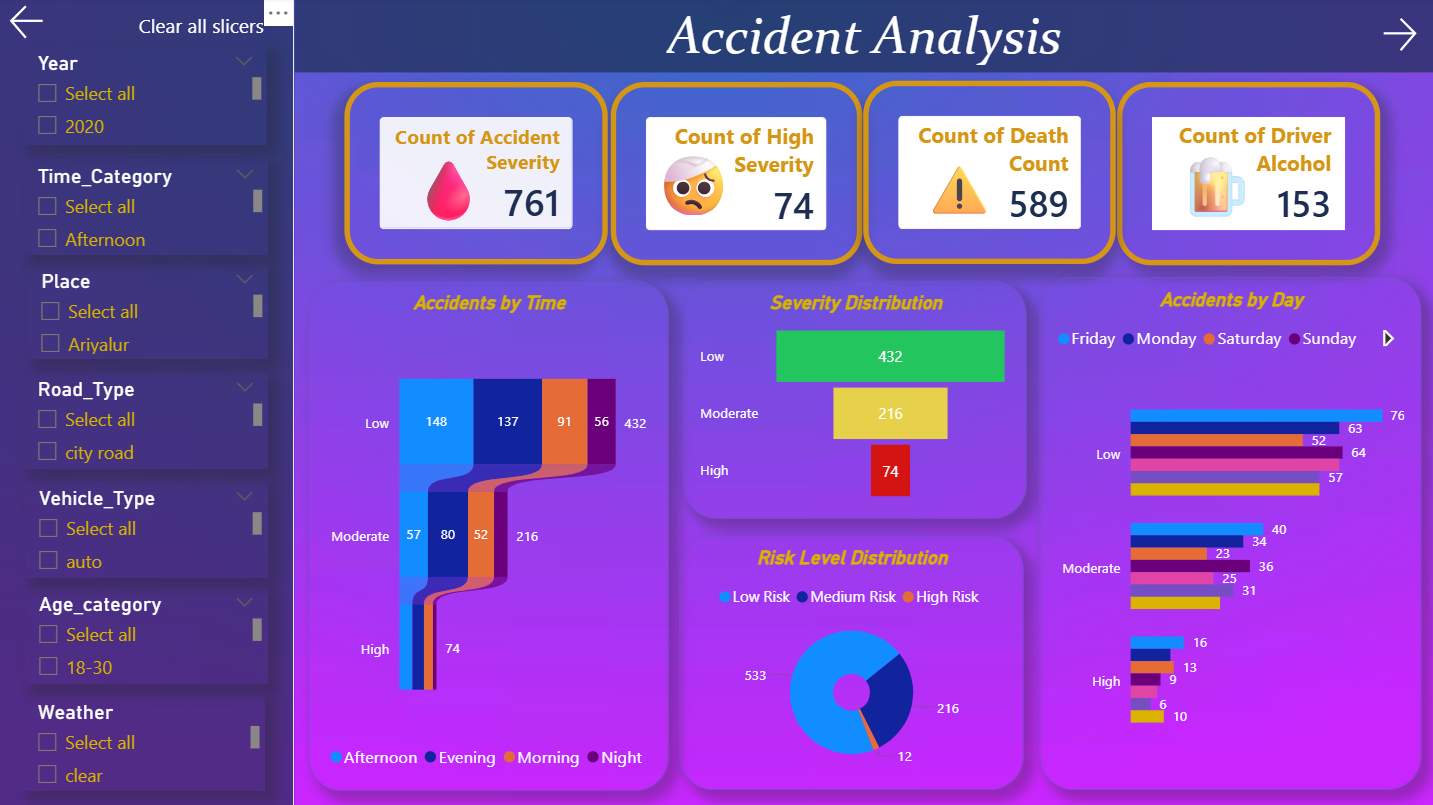

The dashboard page shown, as its layout file describes it:
{"tool":"powerbi","page":{"name":"Page 2","canvas":[1280,720],"ordinal":1},"visuals":[{"type":"cardVisual","fields":{"Data":["CountNonNull(accidents_clean_202606011820.Driver_Alcohol)"]},"box":[997.6,75.5,234.6,163.3],"z":0},{"type":"shape","box":[0,0,265,720.9],"z":1000},{"type":"slicer","fields":{"Values":["updated 3.Year"]},"box":[22.9,43.3,217,88],"z":2000},{"type":"slicer","fields":{"Values":["accidents_clean_202606011820.Time_Category"]},"box":[22.9,143.3,217.9,86.6],"z":3000},{"type":"slicer","fields":{"Values":["accidents_clean_202606011820.Weather"]},"box":[23.4,620.8,215.6,85.7],"z":4000},{"type":"slicer","fields":{"Values":["accidents_clean_202606011820.Road_Type"]},"box":[22.9,334.3,217.9,86.6],"z":5000},{"type":"slicer","fields":{"Values":["accidents_clean_202606011820.Vehicle_Type"]},"box":[24.4,431.3,216.4,86.6],"z":6000},{"type":"slicer","fields":{"Values":["Sheet1 (2).Age_category"]},"box":[24.4,525.4,216.4,86.6],"z":7000},{"type":"slicer","fields":{"Values":["accidents_clean_202606011820.Place"]},"box":[27.3,237.7,214.3,85.7],"z":8000},{"type":"shape","box":[265.4,0,1014.6,67.6],"z":9000},{"type":"cardVisual","fields":{"Data":["CountNonNull(accidents_clean_202606011820.Accident_Severity)"]},"box":[546.1,75.5,223.7,163.3],"z":10000},{"type":"cardVisual","fields":{"Data":["CountNonNull(updated 3.Death_Count)"]},"box":[771.2,74.1,225,163.3],"z":11000},{"type":"actionButton","box":[113.4,0,128.4,49.3],"z":12000},{"type":"cardVisual","fields":{"Data":["CountNonNull(accidents_clean_202606011820.Accident_Severity)"]},"box":[309.5,75.6,234.3,162.7],"z":12000,"group":"g1"},{"type":"actionButton","box":[6.9,2.7,50,40],"z":13000},{"type":"actionButton","box":[1229.2,13.7,50.8,40],"z":14000},{"type":"textbox","box":[579.1,124.9,79.6,89.2],"z":15000},{"type":"textbox","box":[1045.6,126.2,81,91.9],"z":16000},{"type":"textbox","box":[819.2,129,81,83.7],"z":17000},{"type":"barChart","title":"Accidents by Time","fields":{"Y":["CountNonNull(accidents_clean_202606011820.Time_Category)"],"Category":["accidents_clean_202606011820.Accident_Severity"],"Series":["accidents_clean_202606011820.Time_Category"]},"box":[277.2,252.5,321.1,454.2],"z":18000},{"type":"textbox","box":[360.2,129.3,82.1,85.1],"z":19000,"group":"g1"},{"type":"funnel","title":"Severity Distribution","fields":{"Category":["accidents_clean_202606011820.Accident_Severity"],"Y":["CountNonNull(accidents_clean_202606011820.Accident_Severity)"]},"box":[611.4,252.2,306,211.9],"z":19000},{"type":"donutChart","title":"Risk Level Distribution","fields":{"Category":["accidents_clean_202606011820.Risk_Level"],"Y":["CountNonNull(accidents_clean_202606011820.Risk_Level)"]},"box":[607.9,480.3,306,226.4],"z":20000},{"type":"clusteredBarChart","title":"Accidents by Day","fields":{"Category":["accidents_clean_202606011820.Accident_Severity"],"Y":["CountNonNull(accidents_clean_202606011820.Day)"],"Series":["accidents_clean_202606011820.Day"]},"box":[928.4,249.3,340.3,456.7],"z":21000},{"type":"group","id":"g1","title":"Group 1","box":[309.5,75.6,234.3,162.7],"z":22000}]}

Visuals, with their boxes on the page's 1280x720 design canvas (x1, y1, x2, y2). These are canvas units, not pixel positions in the 1433x805 screenshot, which may show the page scaled, cropped or inside an application window:
cardVisual - CountNonNull(accidents_clean_202606011820.Driver_Alcohol): [x1=998, y1=76, x2=1232, y2=239]
shape: [x1=0, y1=0, x2=265, y2=721]
slicer - updated 3.Year: [x1=23, y1=43, x2=240, y2=131]
slicer - accidents_clean_202606011820.Time_Category: [x1=23, y1=143, x2=241, y2=230]
slicer - accidents_clean_202606011820.Weather: [x1=23, y1=621, x2=239, y2=706]
slicer - accidents_clean_202606011820.Road_Type: [x1=23, y1=334, x2=241, y2=421]
slicer - accidents_clean_202606011820.Vehicle_Type: [x1=24, y1=431, x2=241, y2=518]
slicer - Sheet1 (2).Age_category: [x1=24, y1=525, x2=241, y2=612]
slicer - accidents_clean_202606011820.Place: [x1=27, y1=238, x2=242, y2=323]
shape: [x1=265, y1=0, x2=1280, y2=68]
cardVisual - CountNonNull(accidents_clean_202606011820.Accident_Severity): [x1=546, y1=76, x2=770, y2=239]
cardVisual - CountNonNull(updated 3.Death_Count): [x1=771, y1=74, x2=996, y2=237]
actionButton: [x1=113, y1=0, x2=242, y2=49]
cardVisual - CountNonNull(accidents_clean_202606011820.Accident_Severity): [x1=310, y1=76, x2=544, y2=238]
actionButton: [x1=7, y1=3, x2=57, y2=43]
actionButton: [x1=1229, y1=14, x2=1280, y2=54]
textbox: [x1=579, y1=125, x2=659, y2=214]
textbox: [x1=1046, y1=126, x2=1127, y2=218]
textbox: [x1=819, y1=129, x2=900, y2=213]
"Accidents by Time" barChart: [x1=277, y1=252, x2=598, y2=707]
textbox: [x1=360, y1=129, x2=442, y2=214]
"Severity Distribution" funnel: [x1=611, y1=252, x2=917, y2=464]
"Risk Level Distribution" donutChart: [x1=608, y1=480, x2=914, y2=707]
"Accidents by Day" clusteredBarChart: [x1=928, y1=249, x2=1269, y2=706]
"Group 1" group: [x1=310, y1=76, x2=544, y2=238]
